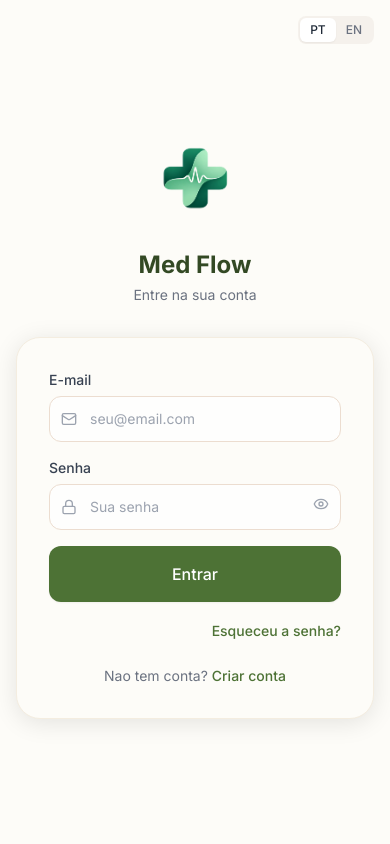
Test: Login Journey › shows error message when login fails
Type "luiza@test.com" into the field with placeholder "seu@email.com".
click(195, 419); type("luiza@test.com")  # box [49,396,341,442]
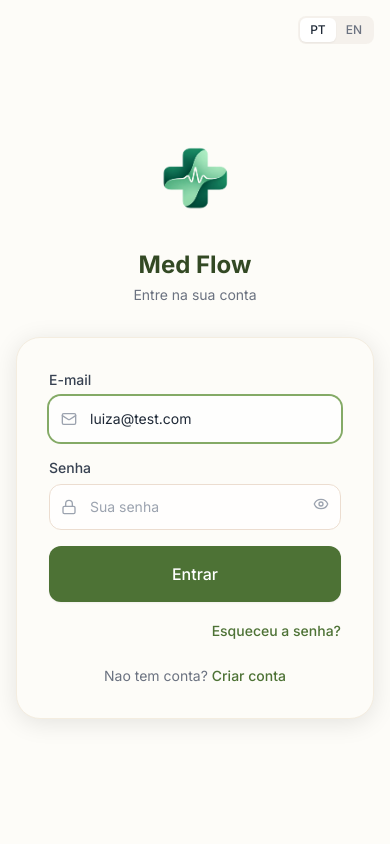
Type "wrongpass" into the password field with placeholder "Sua senha".
click(195, 507); type("wrongpass")  # box [49,484,341,530]
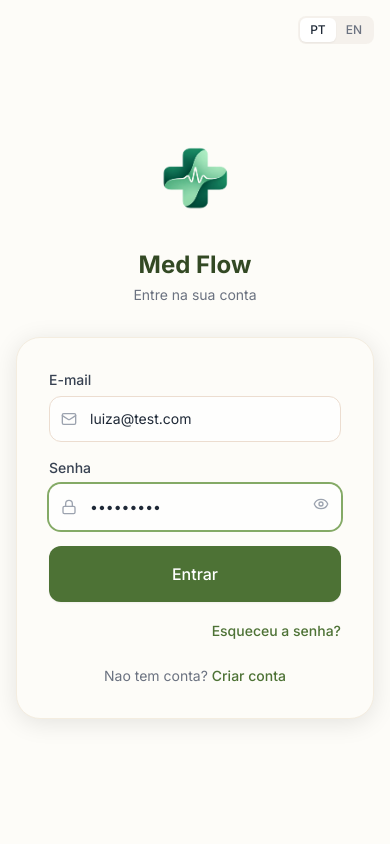
Click the button "Entrar".
click(195, 574)  # box [49,546,341,602]
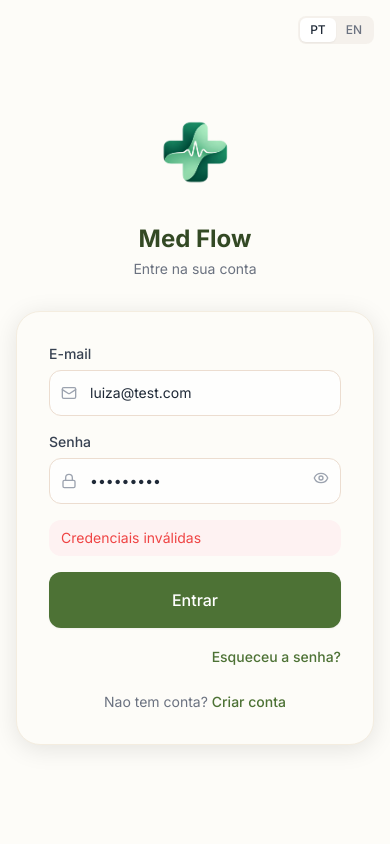
Now the text "Credenciais inválidas" is shown, box [49,520,341,556]
